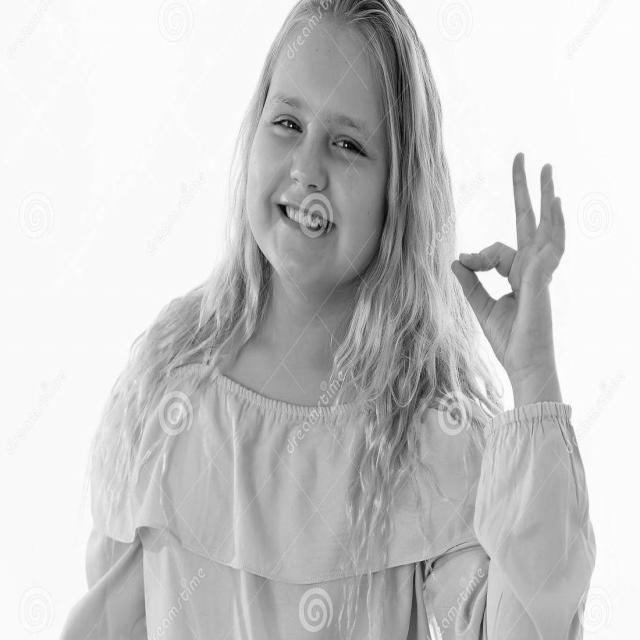perfect: (447, 143, 570, 394)
